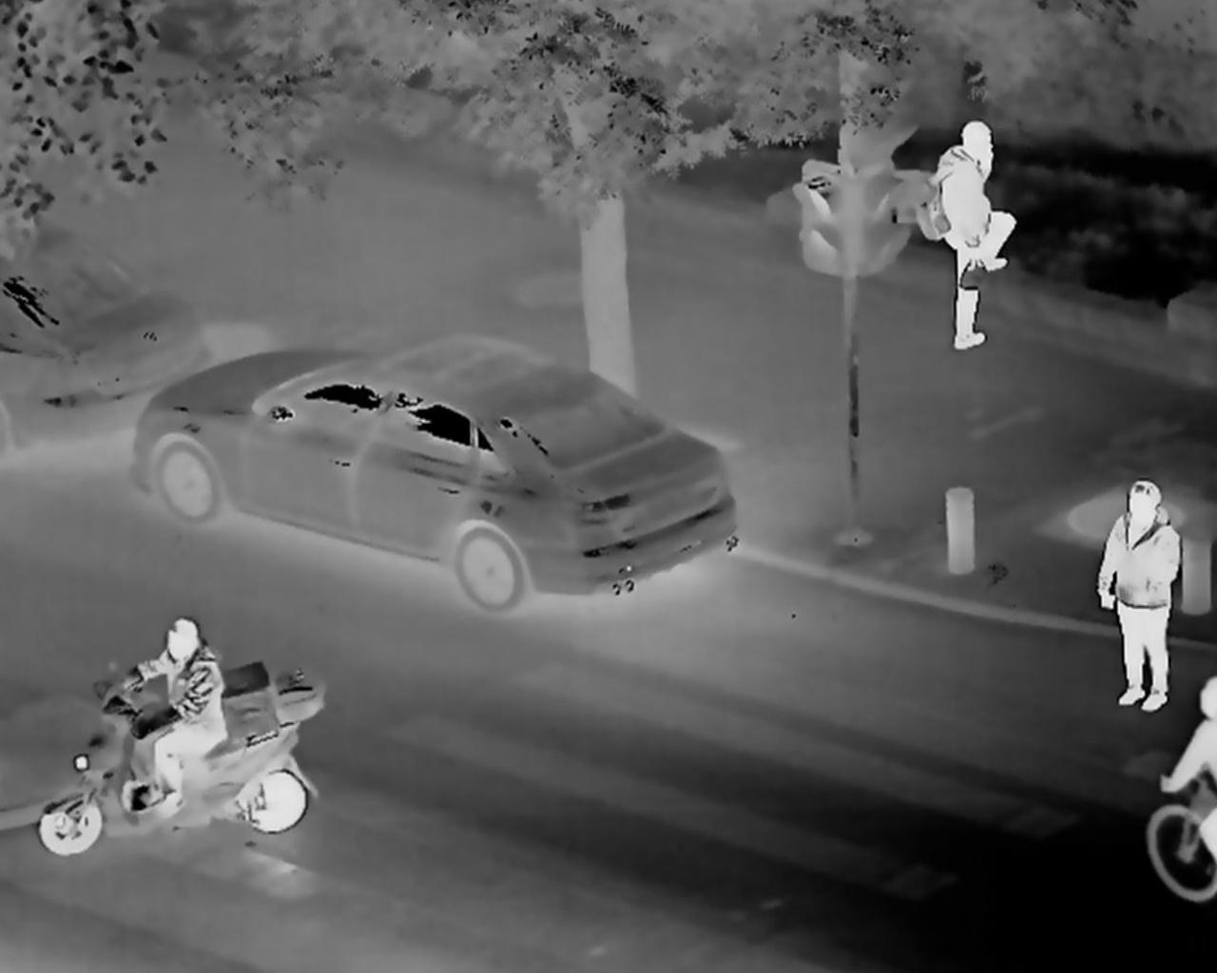person: (918, 123, 1030, 358), (116, 617, 241, 810), (1098, 476, 1188, 708), (1165, 679, 1217, 828)
